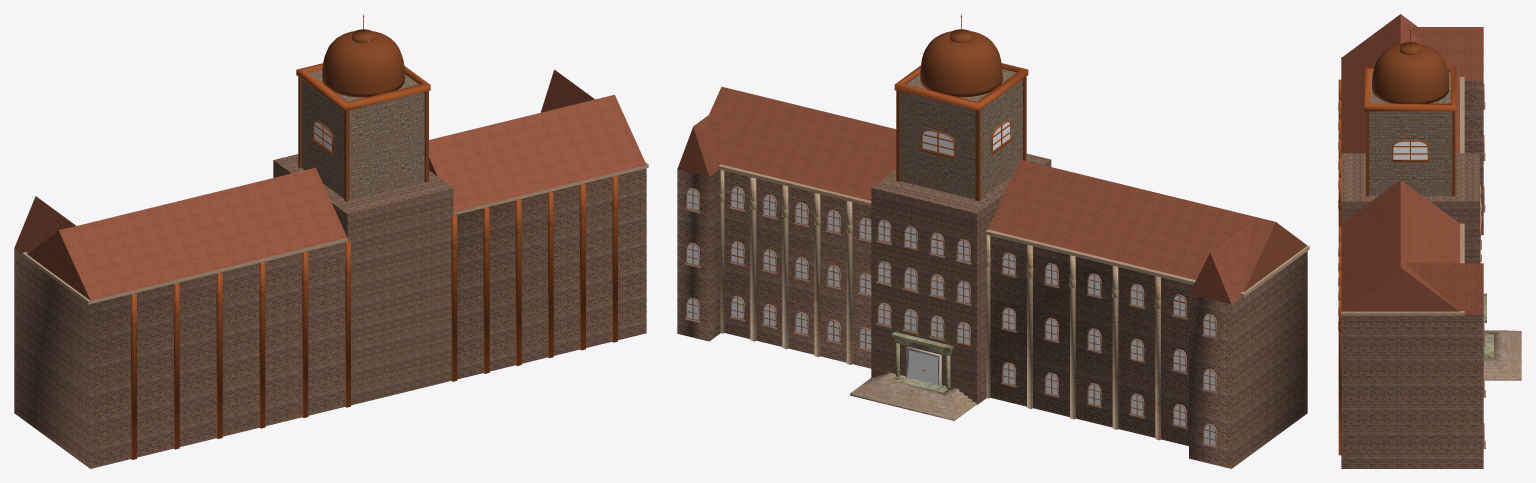
3 views of the same model, side by side, from view 1: azimuth 30°, elevation 25°; view 2: azimuth 150°, elevation 25°; view 3: azimuth 270°, elevation 25° (orthographic). The views are drawn at different scales.
Visible parts, largest first — view 1: Extrusion Spline.002_73, Extrusion Spline.001_72, Cube_26, Cube.202_112, Cube.127_110, Dome_71, Cylindrical Lathe.026_62, Cylindrical Lathe.013_38, Cube.203_113, Spline.049_64, Cylindrical Lathe.006_34, Cylindrical Lathe.020_42 (+11 smaller); view 2: Extrusion Spline.002_73, Extrusion Spline.001_72, Cube.202_112, Cube_26, Cylindrical Lathe.013_38, Cube.127_110, Cube.057_27, Dome_71, Cylindrical Lathe.026_62, Extrusion Spline_13, Cube.203_113, Cube.128_111 (+1 smaller); view 3: Extrusion Spline.001_72, Cube.127_110, Dome_71, Cube_26, Cube.202_112, Cylindrical Lathe.026_62, Cube.128_111, Cube.203_113, Extrusion Spline.002_73, Extrusion Spline_13, Spline.049_64, Cylindrical Lathe.013_38 (+6 smaller).
Boxes of the visible parts, x1,y1,x2,y2 form: Extrusion Spline.002_73: (14, 242, 345, 468); Extrusion Spline.001_72: (456, 168, 646, 379); Cube_26: (273, 154, 453, 405); Cube.202_112: (27, 167, 347, 300); Cube.127_110: (429, 94, 646, 211); Dome_71: (301, 69, 424, 199); Cylindrical Lathe.026_62: (322, 29, 404, 97); Cylindrical Lathe.013_38: (22, 162, 648, 304); Cube.203_113: (14, 196, 75, 253); Spline.049_64: (296, 63, 430, 111); Cylindrical Lathe.006_34: (515, 199, 522, 365); Cylindrical Lathe.020_42: (216, 272, 223, 438); Extrusion Spline.002_73: (990, 236, 1307, 468); Extrusion Spline.001_72: (677, 169, 871, 368); Cube.202_112: (988, 159, 1307, 291); Cube_26: (871, 153, 1051, 404); Cylindrical Lathe.013_38: (718, 164, 1309, 440); Cube.127_110: (709, 87, 896, 200); Cube.057_27: (685, 186, 1217, 448); Dome_71: (900, 69, 1022, 199); Cylindrical Lathe.026_62: (920, 29, 1002, 97); Extrusion Spline_13: (850, 372, 976, 420); Cube.203_113: (1189, 222, 1252, 304); Cube.128_111: (677, 96, 734, 176); Extrusion Spline.001_72: (1341, 314, 1483, 468); Cube.127_110: (1341, 180, 1459, 311); Dome_71: (1369, 72, 1451, 195); Cube_26: (1341, 153, 1479, 263); Cube.202_112: (1341, 14, 1459, 153); Cylindrical Lathe.026_62: (1372, 42, 1448, 103); Cube.128_111: (1405, 263, 1483, 314); Cube.203_113: (1405, 27, 1483, 80); Extrusion Spline.002_73: (1464, 80, 1483, 234); Extrusion Spline_13: (1483, 330, 1521, 380); Spline.049_64: (1364, 67, 1456, 111); Cylindrical Lathe.013_38: (1341, 57, 1464, 315).
Bounding box in the file's own units: 52.32 × 31.41 × 15.85.
Materials: 12 (8 with a texture image).
